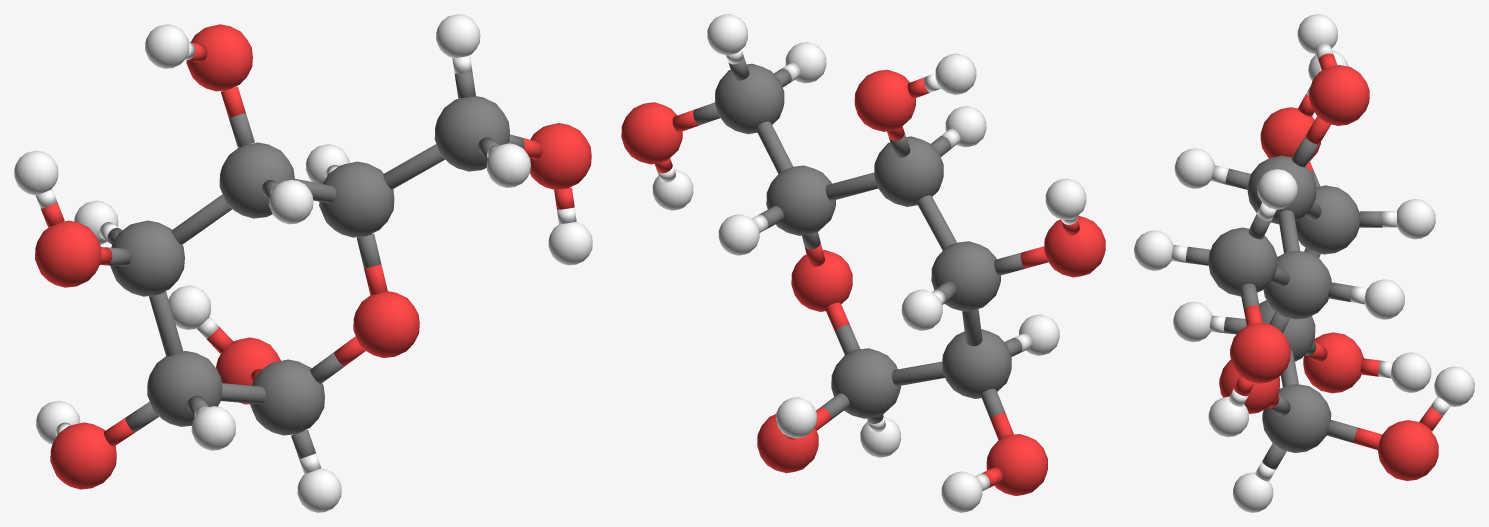
File: alpha-d-glucose_v002.glb
The picture shows the model from 3 angles, left to right: view 1: azimuth 30°, elevation 25°; view 2: azimuth 150°, elevation 25°; view 3: azimuth 270°, elevation 25°; orthographic projection. The views are drawn at different scales.
Visible parts, largest first — view 1: subnode_8, subnode_10, subnode_7, subnode_11, subnode_9, subnode_6, subnode_2, subnode_0, subnode_3, subnode_5, subnode_1, subnode_4 (+16 smaller); view 2: subnode_10, subnode_11, subnode_8, subnode_9, subnode_6, subnode_7, subnode_1, subnode_5, subnode_3, subnode_2, subnode_0, subnode_4 (+17 smaller); view 3: subnode_11, subnode_10, subnode_8, subnode_7, subnode_1, subnode_5, subnode_4, subnode_3, subnode_6, subnode_2, subnode_0, subnode_18 (+21 smaller).
Boxes of the visible parts, <box> form: subnode_8: <box>319,161,394,237</box>; subnode_10: <box>249,359,324,435</box>; subnode_7: <box>110,220,184,296</box>; subnode_11: <box>434,96,509,171</box>; subnode_9: <box>147,351,222,426</box>; subnode_6: <box>219,142,294,218</box>; subnode_2: <box>35,220,101,287</box>; subnode_0: <box>353,291,419,357</box>; subnode_3: <box>50,422,116,489</box>; subnode_5: <box>530,123,591,189</box>; subnode_1: <box>186,24,252,91</box>; subnode_4: <box>216,337,280,404</box>; subnode_10: <box>831,348,900,418</box>; subnode_11: <box>714,63,784,134</box>; subnode_8: <box>766,165,835,235</box>; subnode_9: <box>942,329,1011,398</box>; subnode_6: <box>874,136,943,206</box>; subnode_7: <box>931,241,1000,311</box>; subnode_1: <box>854,69,915,131</box>; subnode_5: <box>621,102,682,164</box>; subnode_3: <box>986,434,1047,495</box>; subnode_2: <box>1044,215,1105,277</box>; subnode_0: <box>791,249,852,311</box>; subnode_4: <box>757,414,818,473</box>; subnode_11: <box>1208,227,1277,296</box>; subnode_10: <box>1262,384,1331,452</box>; subnode_8: <box>1263,250,1331,319</box>; subnode_7: <box>1295,185,1359,254</box>; subnode_1: <box>1309,65,1369,125</box>; subnode_5: <box>1230,322,1290,383</box>; subnode_4: <box>1378,420,1438,480</box>; subnode_3: <box>1303,332,1363,393</box>; subnode_6: <box>1247,155,1316,224</box>; subnode_2: <box>1260,107,1320,160</box>; subnode_0: <box>1219,360,1279,413</box>; subnode_18: <box>1257,169,1297,209</box>.
Bounding box in the file's own units: 6.84 × 5.98 × 4.16.
